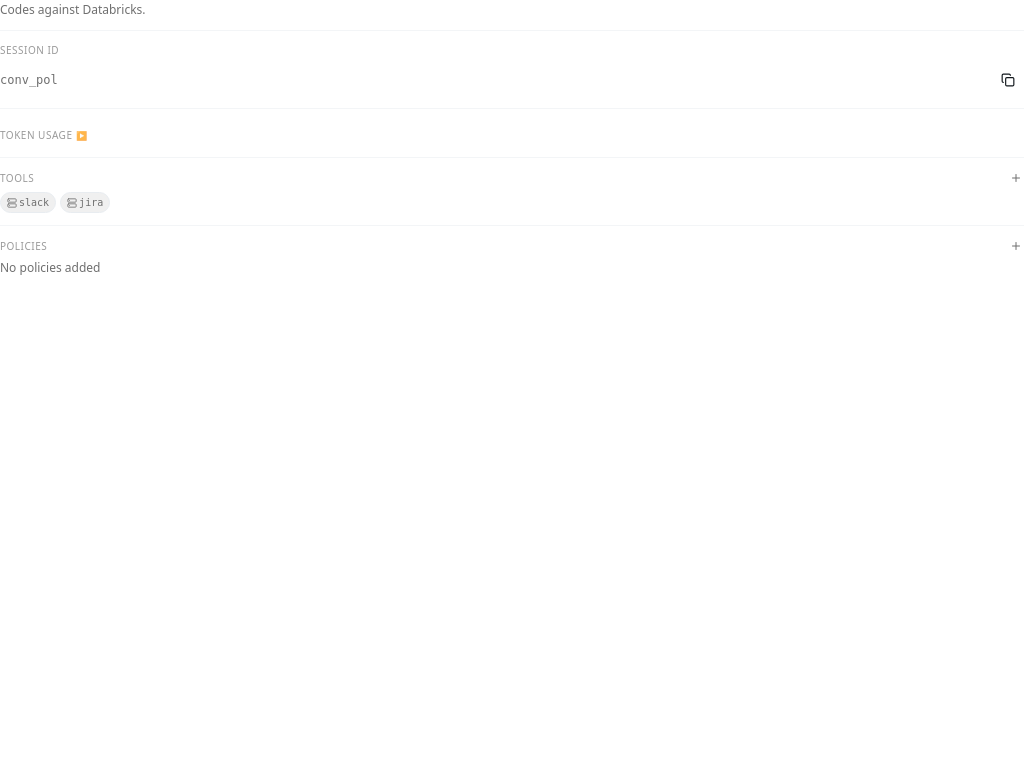
Test: SessionPoliciesSection › Cancel steps back to the policy list after a policy is selected
Click the button titled "Add policy" at (1016, 246), box [1008,238,1023,254]
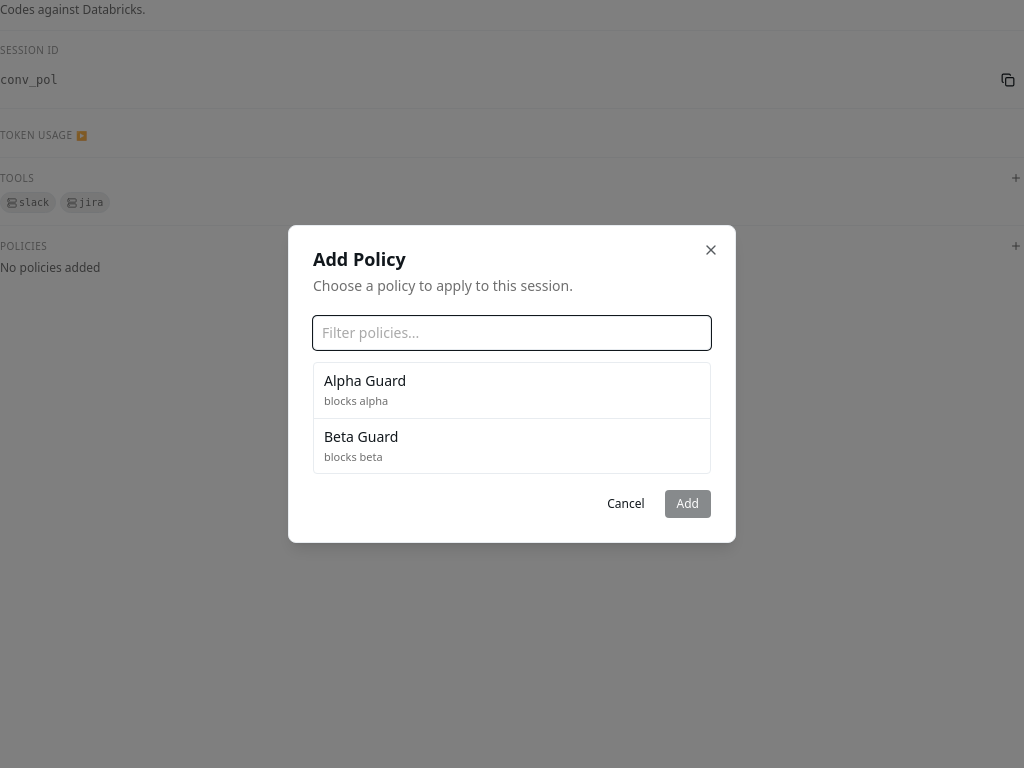
Click the text "Beta Guard" at (361, 436), box [324,426,398,446]
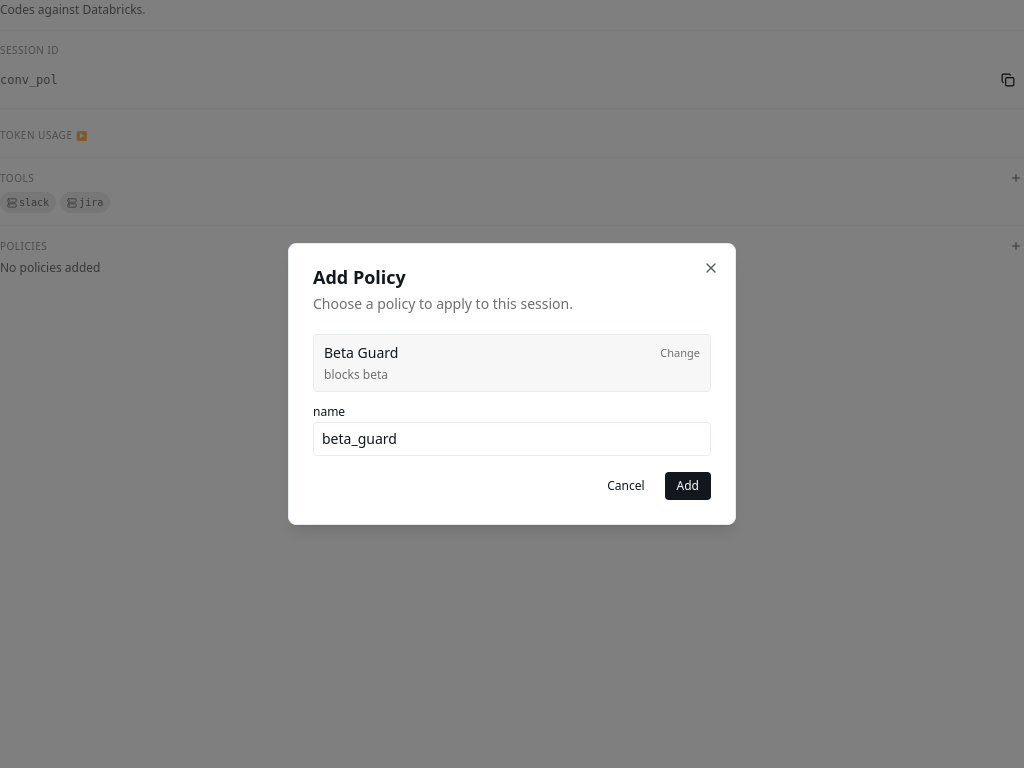
Check: the field with placeholder "Filter policies..." is not shown
Click the button "Cancel" at (626, 486), box [595,472,657,500]
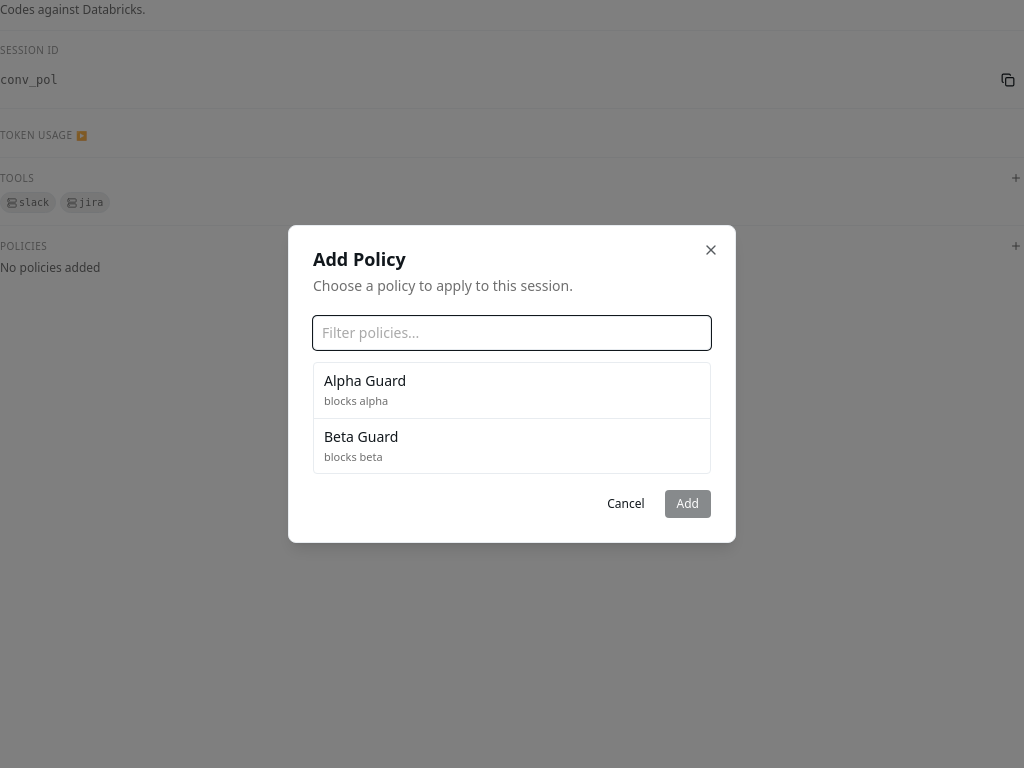
Check: the text "Beta Guard" is shown, box [324,426,398,446]
Check: the field with placeholder "Filter policies..." is shown, box [313,316,711,350]
Check: the text "Alpha Guard" is shown, box [324,371,406,391]
